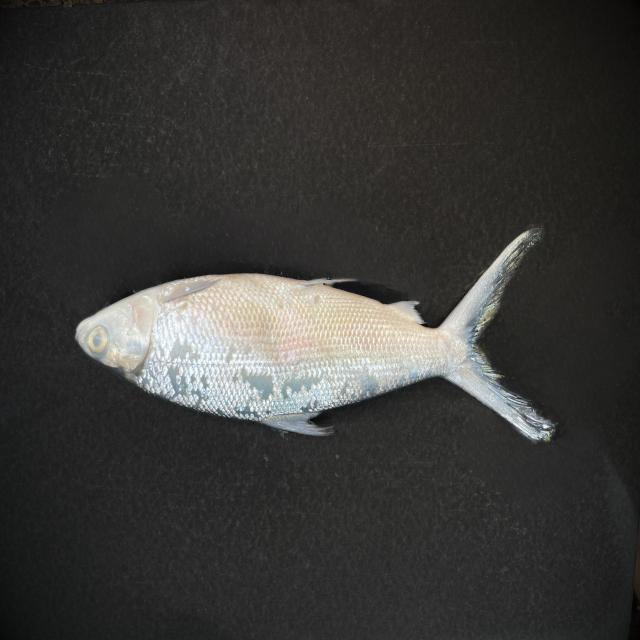750 g: (75, 226, 555, 439)
